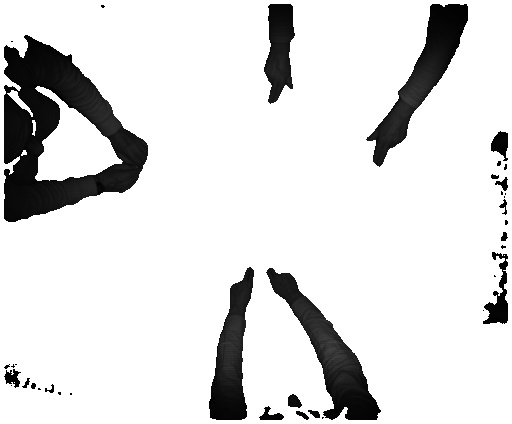fist: (99, 164, 145, 199), (113, 129, 151, 171)
hand: (360, 112, 413, 167), (264, 50, 295, 103), (224, 264, 255, 315), (264, 264, 304, 302)
